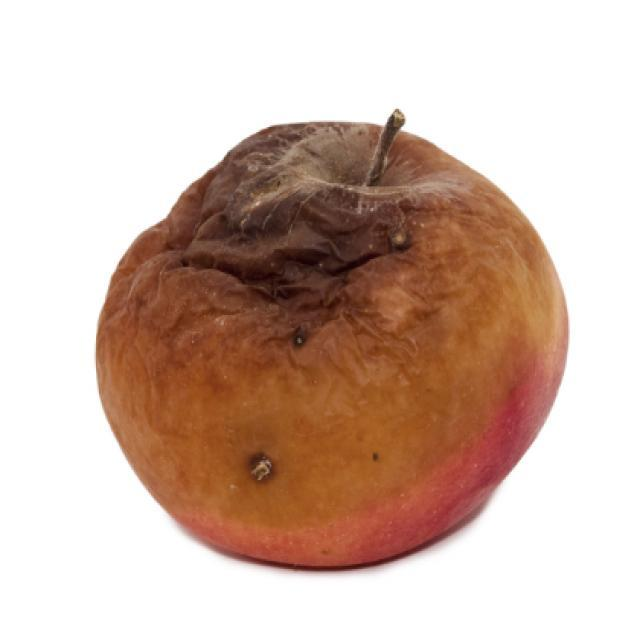Rotten: (80, 113, 570, 557)
